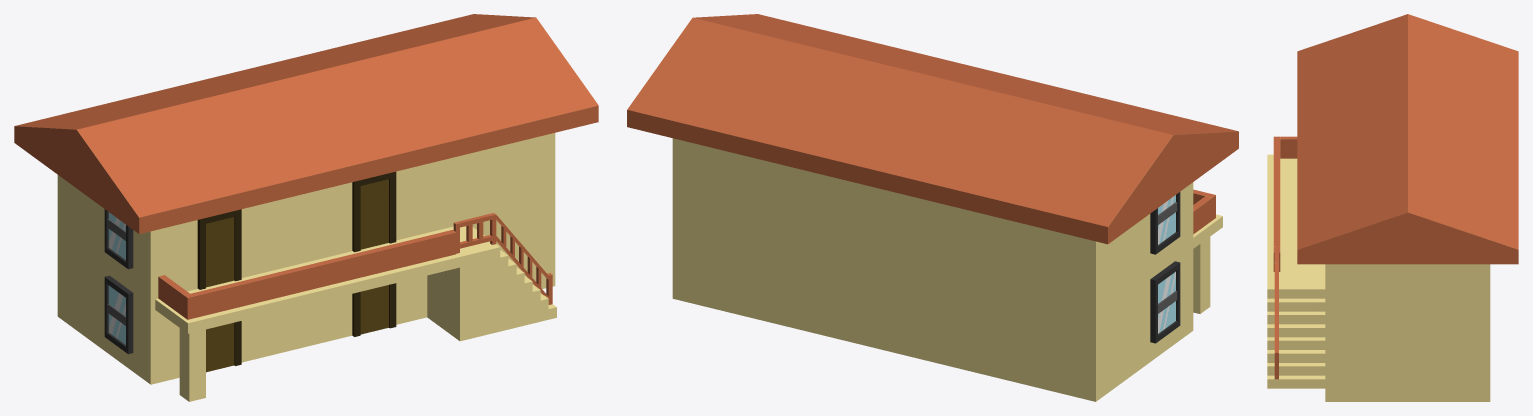
The model's file is 1 Apartment.fbx.
3 views of the same model, side by side, from view 1: azimuth 30°, elevation 25°; view 2: azimuth 150°, elevation 25°; view 3: azimuth 270°, elevation 25° (orthographic). The views are drawn at different scales.
Parts seen in each view (by area): view 1: building_263.002, building_263, building_263.001, Door.002, Door.004, Door.003, Window1.073, Door.001, Window1.074; view 2: building_263, building_263.002, Window1.073, Window1.074; view 3: building_263.002, building_263, building_263.001.
Boxes of the visible parts, box(x1,y1,x2,y2) form: building_263.002: box(14, 14, 598, 234); building_263: box(57, 133, 555, 401); building_263.001: box(427, 213, 556, 341); Door.002: box(197, 209, 241, 289); Door.004: box(352, 171, 396, 252); Door.003: box(352, 283, 396, 336); Window1.073: box(104, 275, 133, 354); Door.001: box(206, 321, 241, 372); Window1.074: box(104, 209, 133, 269); building_263: box(672, 138, 1222, 401); building_263.002: box(627, 14, 1238, 244); Window1.073: box(1150, 261, 1180, 343); Window1.074: box(1150, 192, 1180, 254); building_263.002: box(1297, 14, 1518, 264); building_263: box(1267, 136, 1490, 401); building_263.001: box(1267, 246, 1325, 388).
Bounding box in the file's own units: 1139 × 539 × 609.
